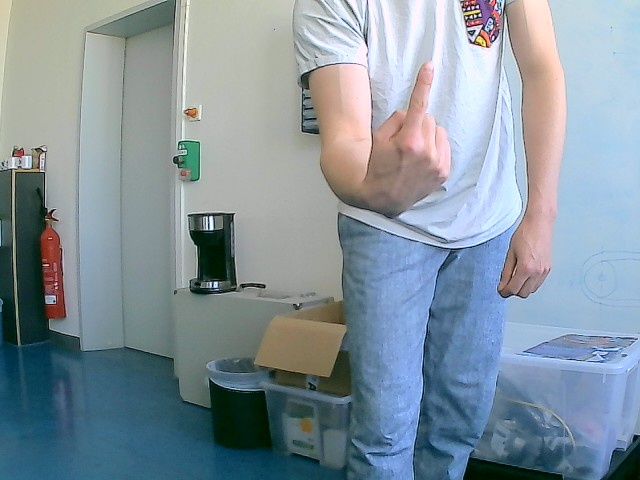no_gesture: (491, 209, 556, 302)
up: (363, 60, 452, 218)
